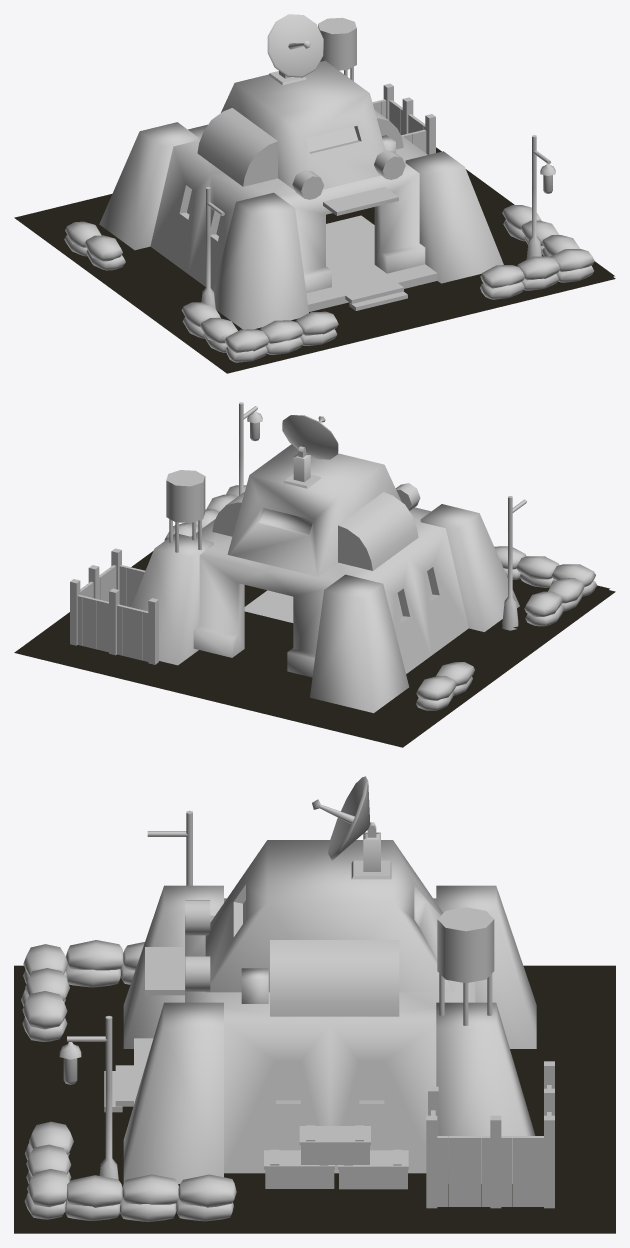
3 renders of one model, top to bottom at view 1: azimuth 30°, elevation 25°; view 2: azimuth 150°, elevation 25°; view 3: azimuth 270°, elevation 25°, orthographic. The views are drawn at different scales.
Visible parts, largest first — view 1: Box023, Plane042; view 2: Box023, Plane042; view 3: Box023, Plane042.
Boxes of the visible parts, bbox=[...] form: Box023: bbox=[64, 14, 594, 362]; Plane042: bbox=[14, 147, 615, 373]; Box023: bbox=[70, 402, 597, 713]; Plane042: bbox=[14, 551, 615, 747]; Box023: bbox=[21, 776, 554, 1221]; Plane042: bbox=[14, 965, 615, 1233].
Bounding box in the file's own units: 1054 × 579 × 1000.
